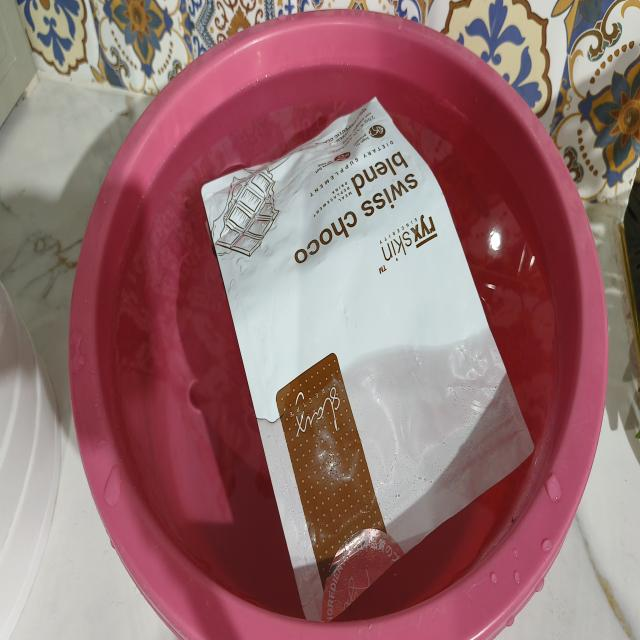Plastic Pouch: (202, 98, 533, 621)
